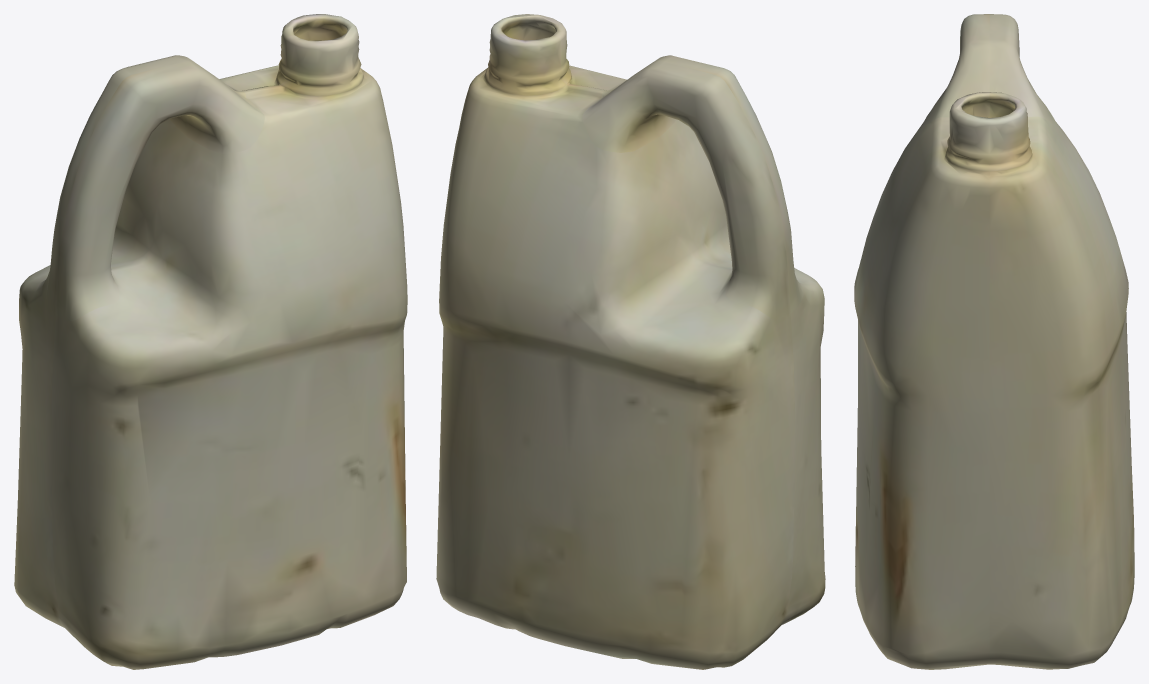
The model's file is plastic_bottle_gallon.glb.
The picture shows the model from 3 angles, left to right: view 1: azimuth 30°, elevation 25°; view 2: azimuth 150°, elevation 25°; view 3: azimuth 270°, elevation 25°; orthographic projection.
Visible parts, largest first — view 1: plastic_bottle_gallon; view 2: plastic_bottle_gallon; view 3: plastic_bottle_gallon.
Boxes of the visible parts, box(x1,y1,x2,y2) form: plastic_bottle_gallon: box(14, 14, 407, 669); plastic_bottle_gallon: box(436, 14, 825, 669); plastic_bottle_gallon: box(854, 14, 1134, 669).
Bounding box in the file's own units: 0.1661 × 0.2745 × 0.1261.
1 material, 1 textured.
